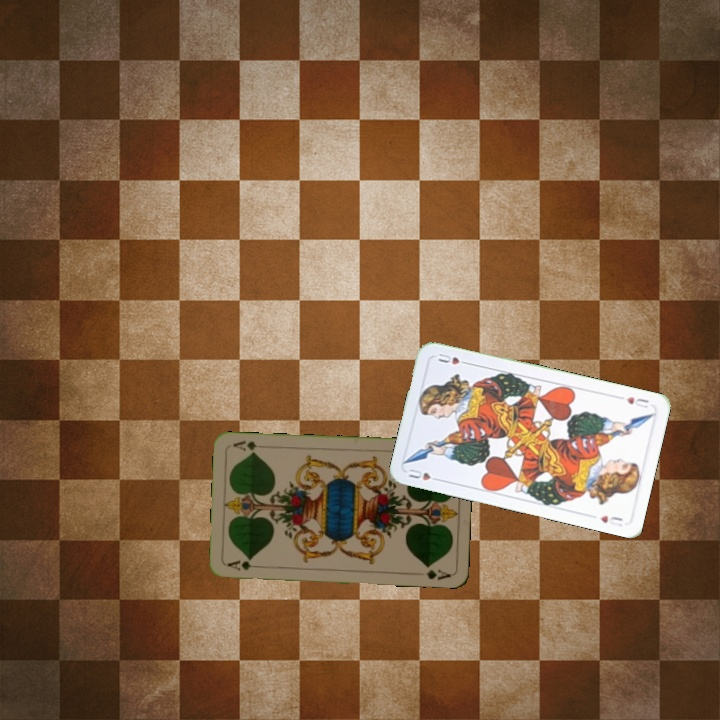GA: (223, 556, 264, 573)
HU: (404, 465, 443, 484), (615, 392, 651, 411)
